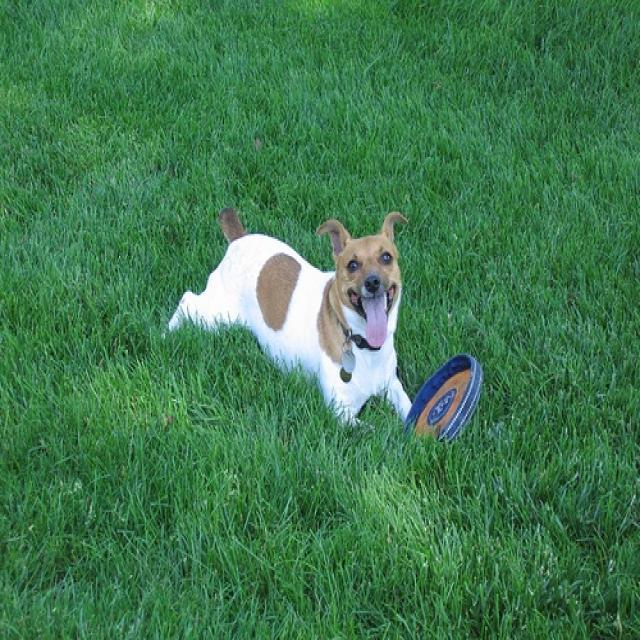dog: (161, 201, 411, 432)
